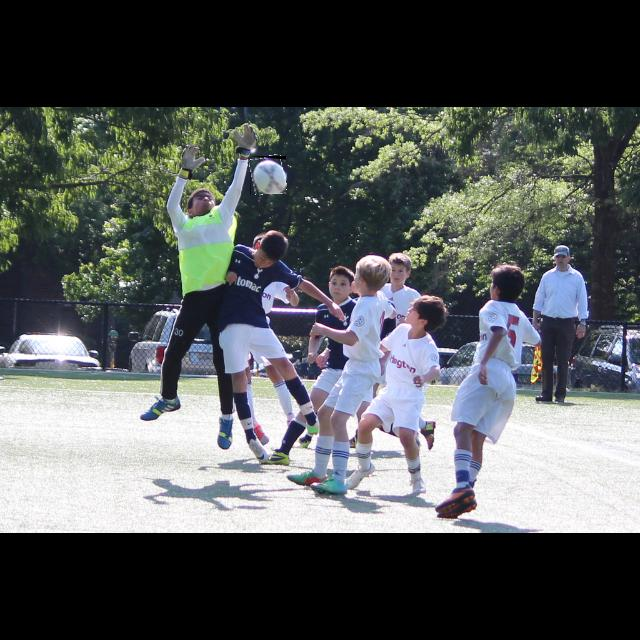Football: (250, 156, 286, 194)
